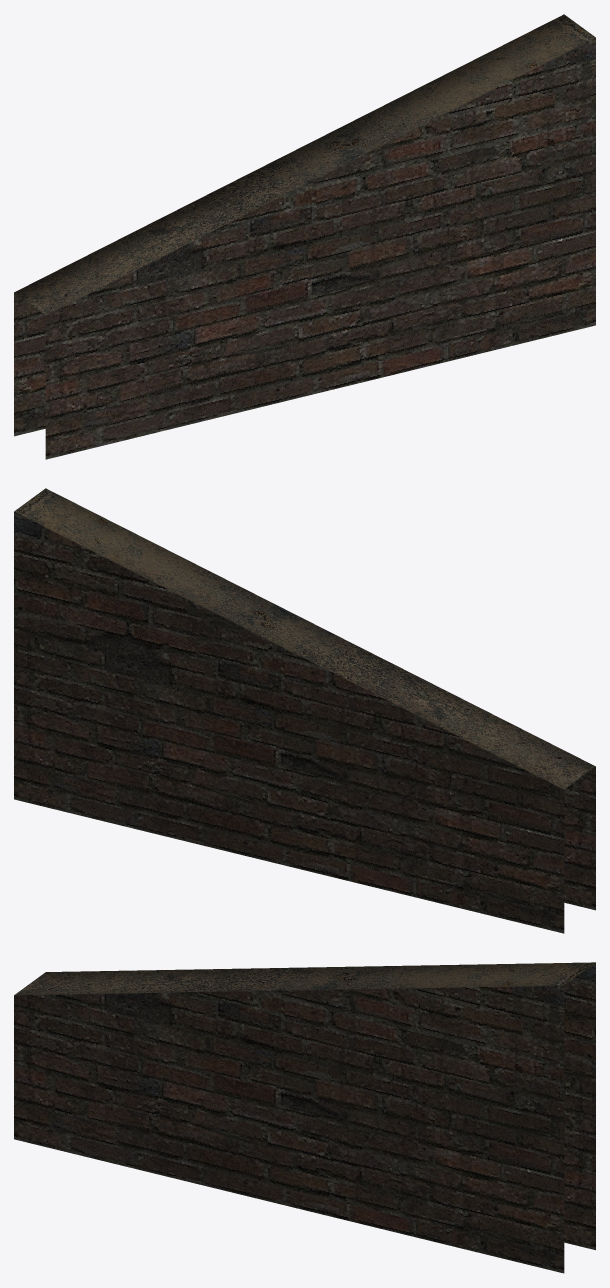
Rendered from wall_top_part_hs_2.glb.
The picture shows the model from 3 angles, top to bottom: view 1: azimuth 30°, elevation 25°; view 2: azimuth 150°, elevation 25°; view 3: azimuth 330°, elevation 25°; orthographic projection.
Visible parts, largest first — view 1: wall_top_part_hs_2; view 2: wall_top_part_hs_2; view 3: wall_top_part_hs_2.
Part boxes in pixels (x1=…): wall_top_part_hs_2: x1=14, y1=14, x2=595, y2=459; wall_top_part_hs_2: x1=14, y1=488, x2=595, y2=933; wall_top_part_hs_2: x1=14, y1=962, x2=595, y2=1273.
Bounding box in the file's own units: 4 × 2 × 0.4.
Materials: 2 (2 with a texture image).
